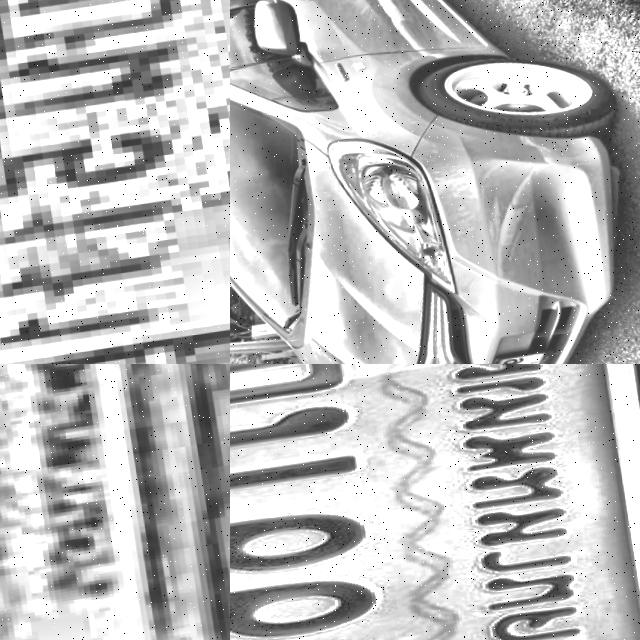license-plate: (230, 364, 640, 640), (0, 0, 230, 364), (0, 364, 230, 640), (458, 348, 559, 364)
